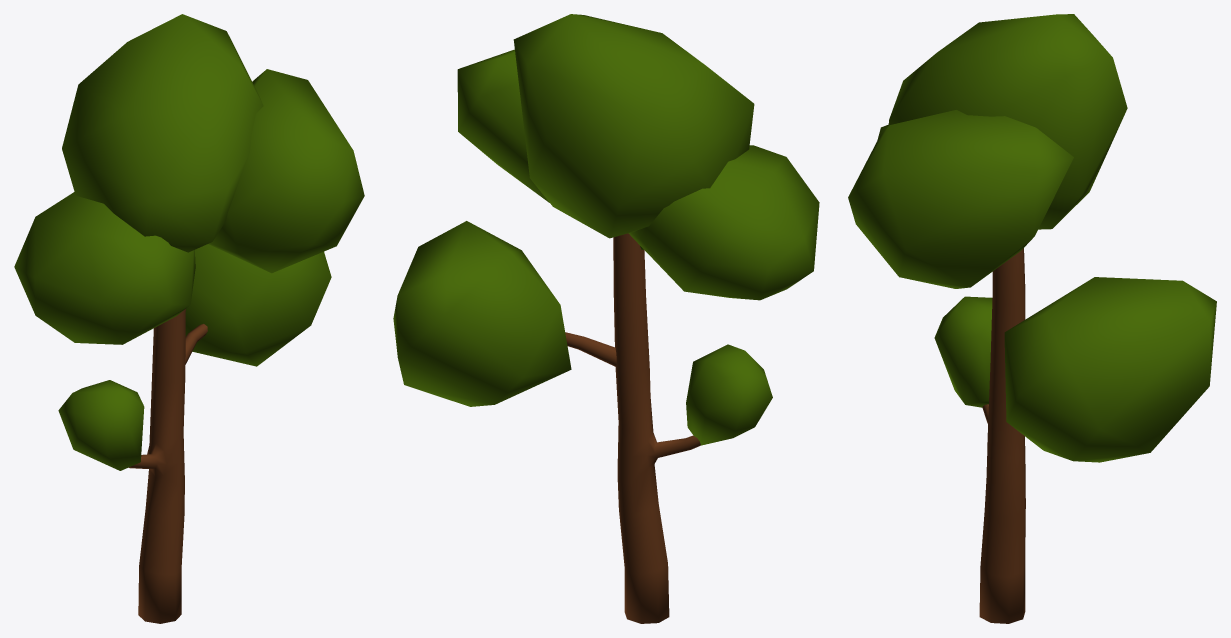
File: tree2.fbx
The picture shows the model from 3 angles, left to right: view 1: azimuth 30°, elevation 25°; view 2: azimuth 150°, elevation 25°; view 3: azimuth 270°, elevation 25°; orthographic projection. The views are drawn at different scales.
Visible parts, largest first — view 1: Circle.009; view 2: Circle.009; view 3: Circle.009.
Boxes of the visible parts, bbox=[...] form: Circle.009: bbox=[14, 14, 364, 623]; Circle.009: bbox=[393, 14, 819, 623]; Circle.009: bbox=[848, 14, 1216, 623].
Size of the model in its own units: 546 by 892 by 477.
